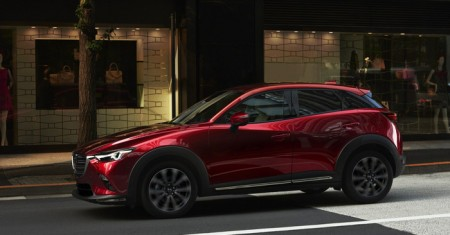pickup: (69, 82, 406, 218)
